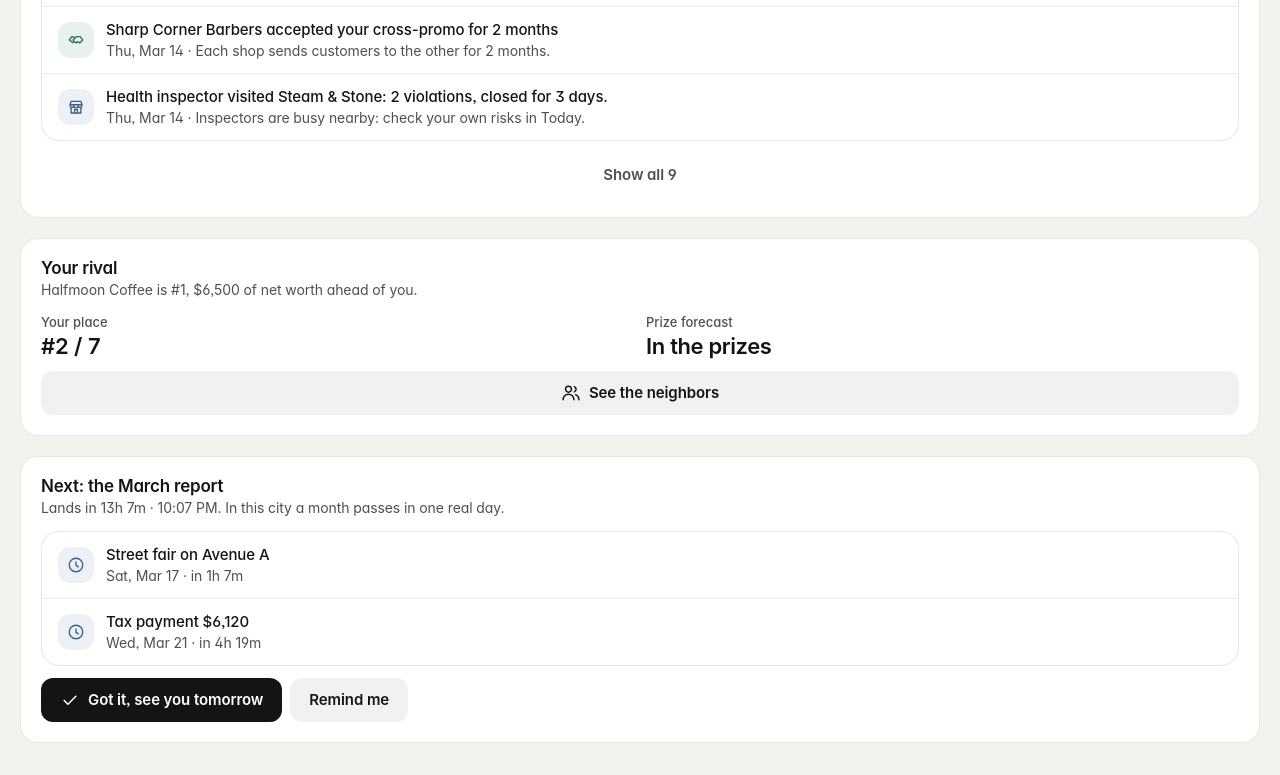
Scenario: /brief on screen › "Got it" saves the look: the next visit starts from today
This screenshot has width=1280, height=775.
(page scrolled)
Step 1. Click the button "Got it, see you tomorrow" → (162, 700), box [41, 678, 282, 722]
(page scrolled)
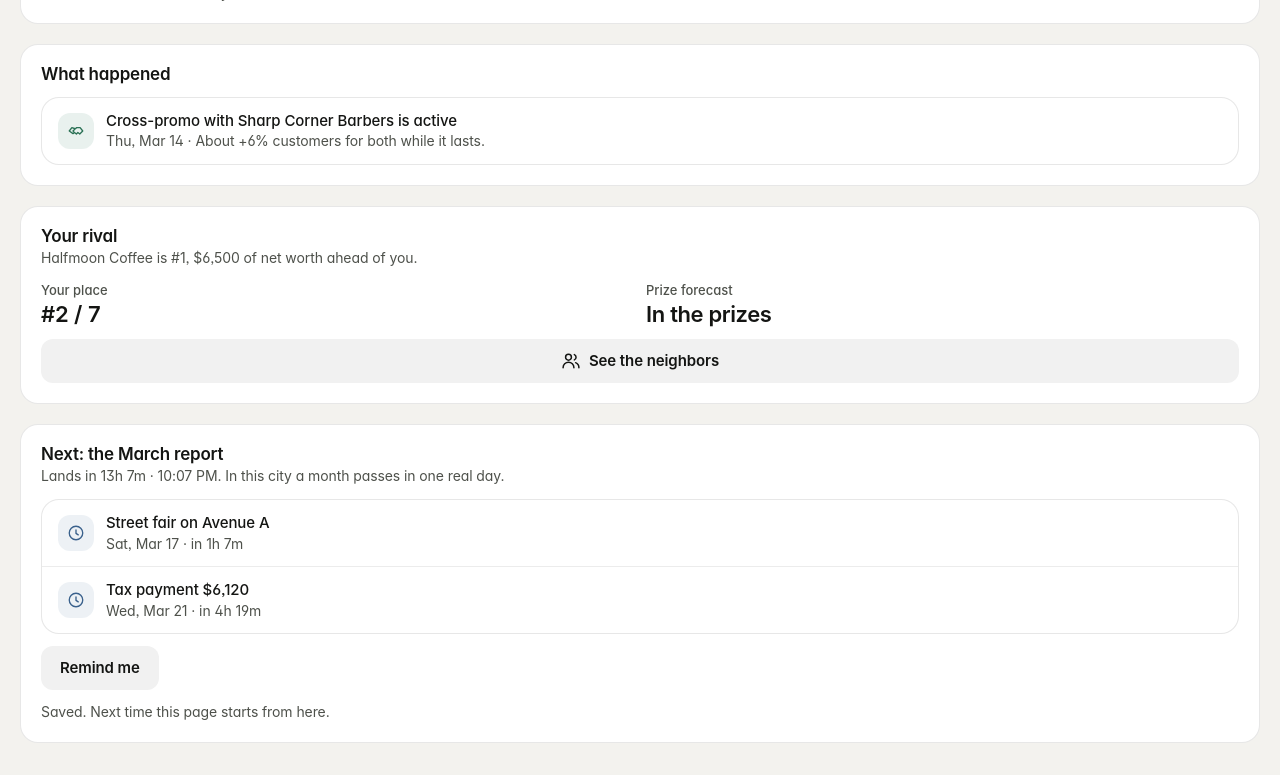
Expected: the text "Saved. Next time this page starts from here." is shown, [41, 703, 330, 720]
